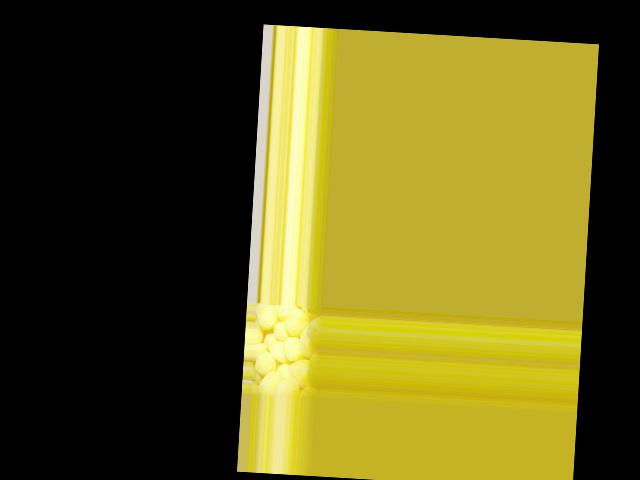lemon: (253, 348, 276, 382)
